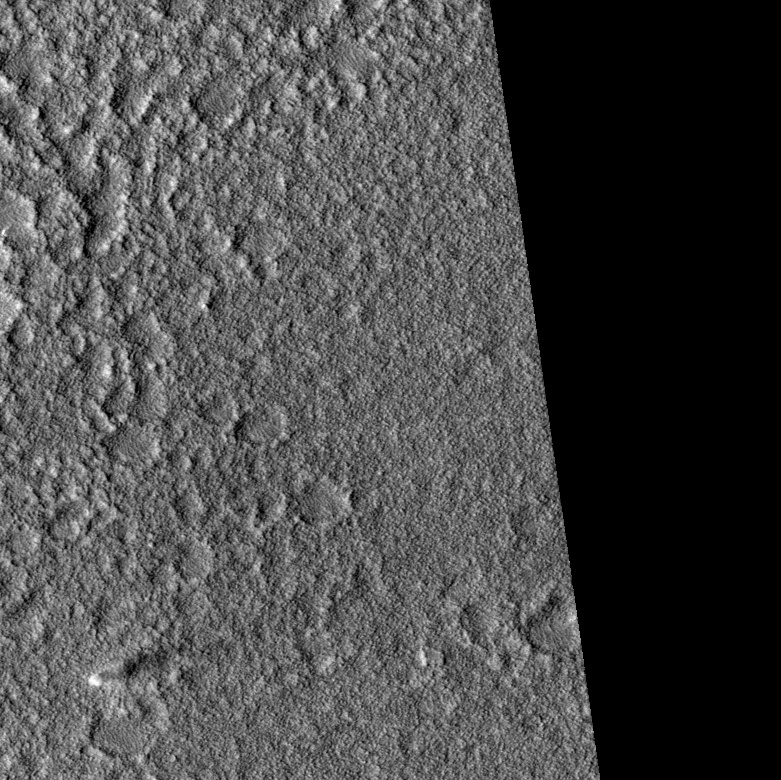dust_devil: (85, 640, 186, 690)
